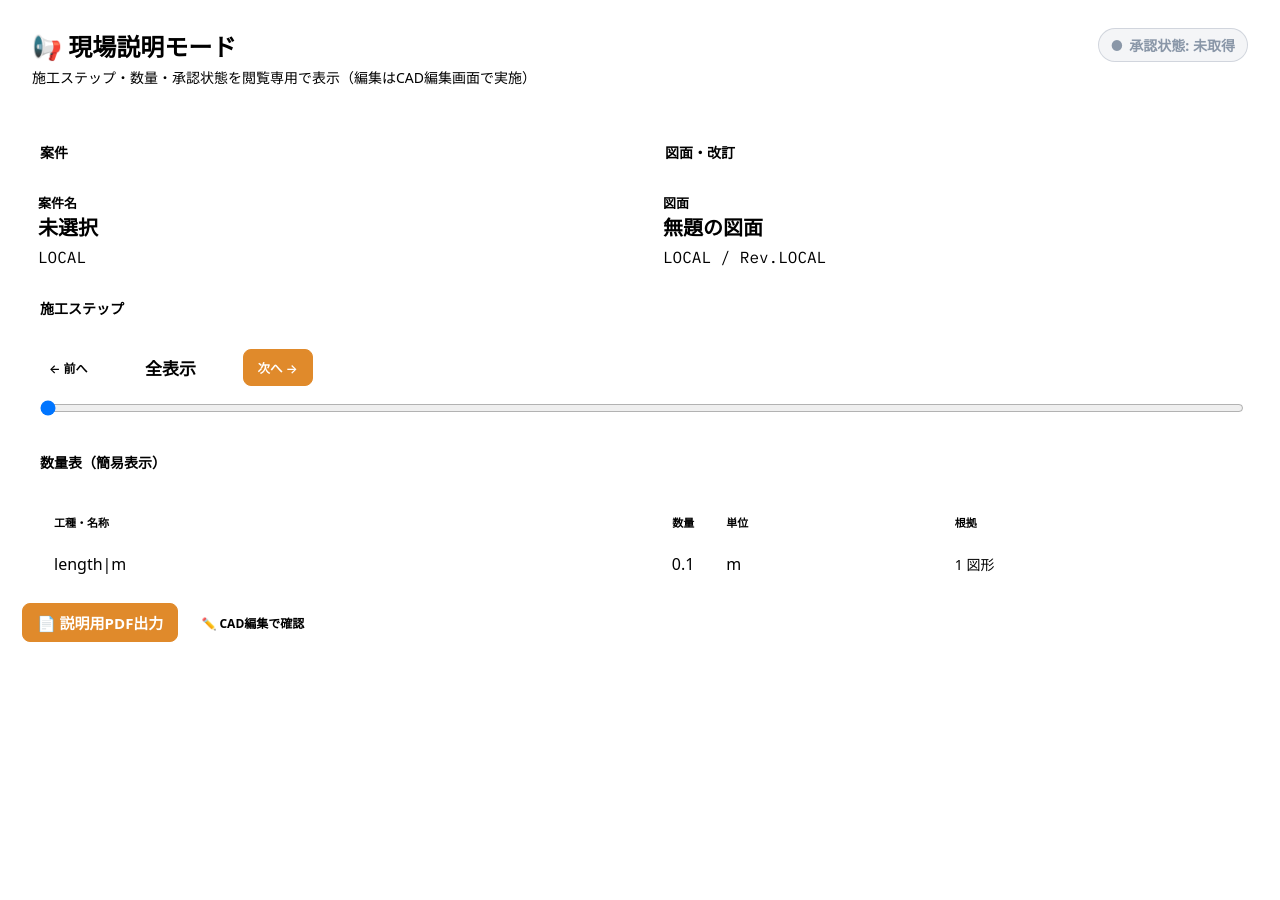
Test case: FieldExplanationPage › 数量行クリックで根拠図形をハイライトする
Click the row named "数量行" at (90, 564), box [38, 541, 1242, 587]
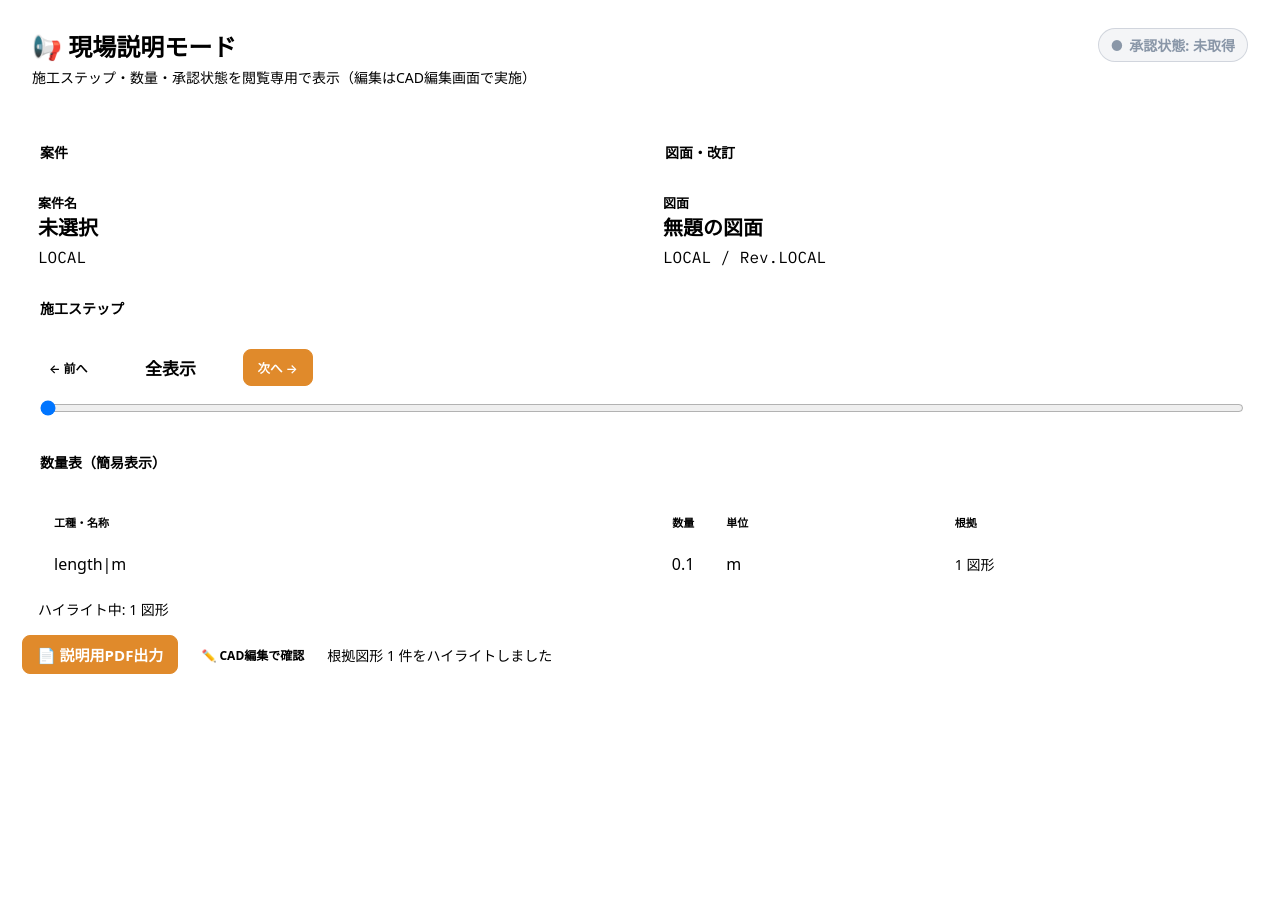
Now the text "根拠図形 1 件をハイライトしました" is shown, box [327, 644, 552, 664]
